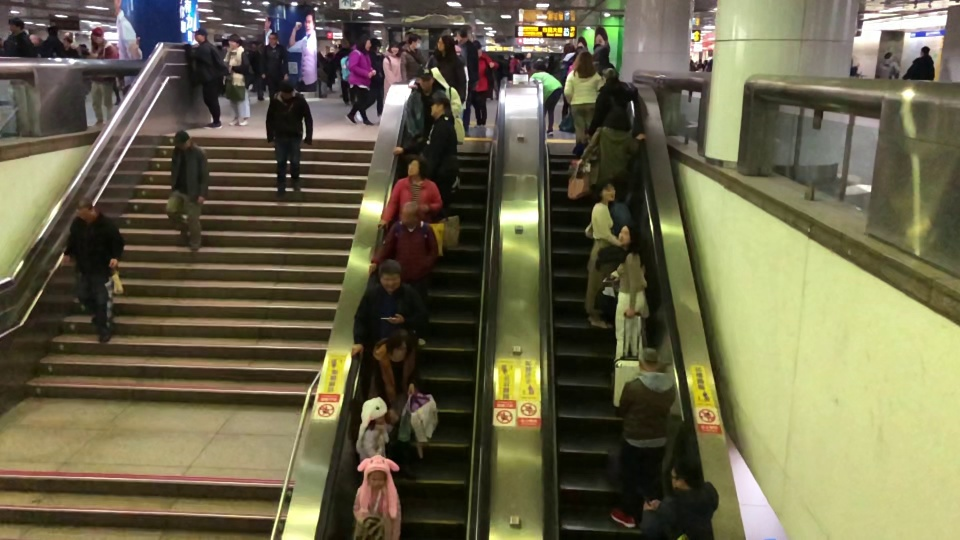person_head: (668, 456, 700, 492), (360, 454, 391, 490), (385, 326, 415, 362), (361, 395, 388, 428), (378, 257, 402, 294), (636, 345, 663, 373), (603, 107, 633, 131), (615, 222, 638, 250), (399, 200, 420, 228), (428, 95, 452, 119), (595, 178, 617, 204), (406, 153, 428, 178), (73, 197, 96, 220), (575, 50, 594, 75), (172, 127, 192, 150), (277, 78, 295, 102), (600, 66, 619, 88), (418, 67, 434, 91), (435, 35, 455, 54), (7, 14, 26, 33), (192, 26, 209, 44), (89, 26, 105, 44), (356, 34, 372, 52), (407, 33, 422, 52), (470, 38, 483, 59), (226, 33, 242, 50), (594, 45, 610, 62), (455, 28, 468, 45), (388, 40, 400, 56), (562, 43, 576, 56), (268, 32, 279, 46), (526, 67, 538, 79), (918, 46, 931, 57), (884, 51, 893, 63)
person_vbox: (609, 347, 676, 527), (368, 202, 439, 346), (350, 258, 423, 385), (62, 199, 124, 342), (365, 325, 421, 480), (390, 94, 457, 219), (580, 106, 648, 205), (609, 223, 651, 380), (640, 457, 719, 540), (161, 130, 210, 255), (583, 179, 623, 328), (266, 79, 314, 197), (376, 154, 443, 233), (428, 64, 467, 188), (183, 28, 229, 128), (351, 452, 401, 540), (563, 51, 604, 154), (426, 34, 468, 119), (588, 67, 638, 138), (403, 68, 448, 142), (341, 36, 377, 126), (87, 27, 119, 125), (453, 27, 479, 136), (469, 39, 500, 128), (223, 34, 251, 127), (526, 66, 562, 136), (356, 396, 390, 462), (260, 31, 290, 101), (1, 15, 37, 59), (399, 32, 428, 81), (382, 41, 403, 106), (901, 46, 936, 80), (591, 45, 620, 81), (878, 51, 901, 79)
